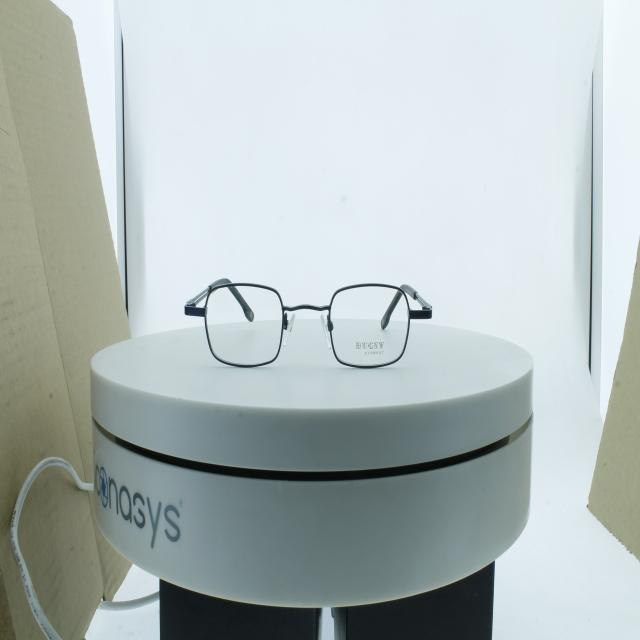Specs: (177, 229, 449, 396)
